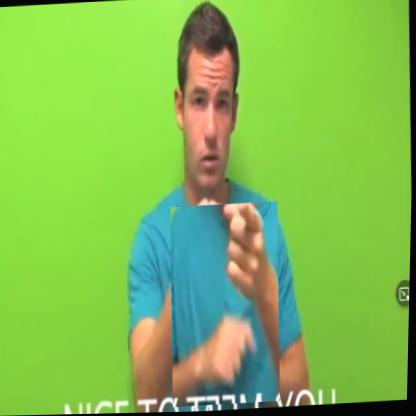NiceToMeetYou: (168, 202, 285, 408)
